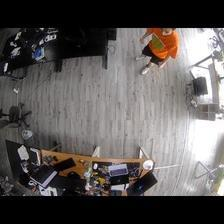fall: (135, 28, 180, 73)
